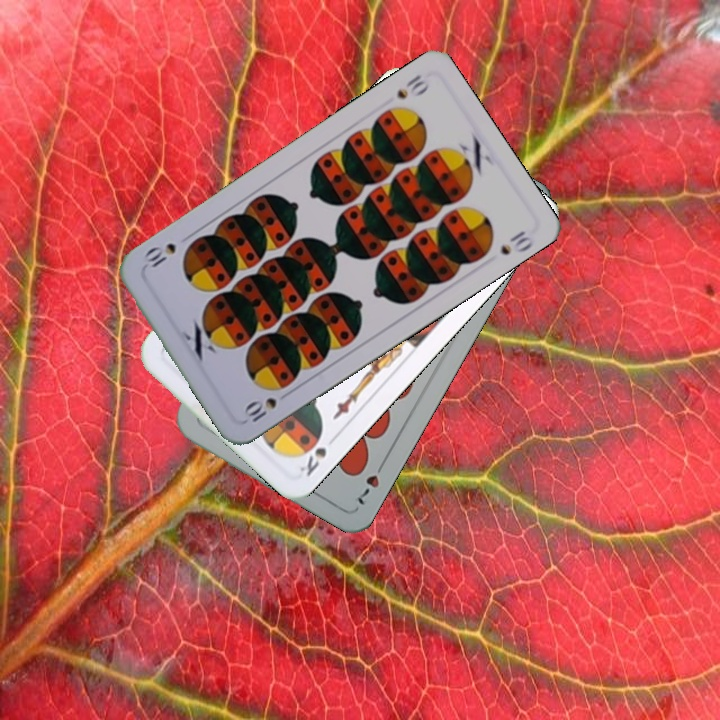H7: (353, 456, 388, 508)
S10: (239, 387, 294, 425), (392, 70, 432, 102)
SK: (295, 443, 329, 479)
